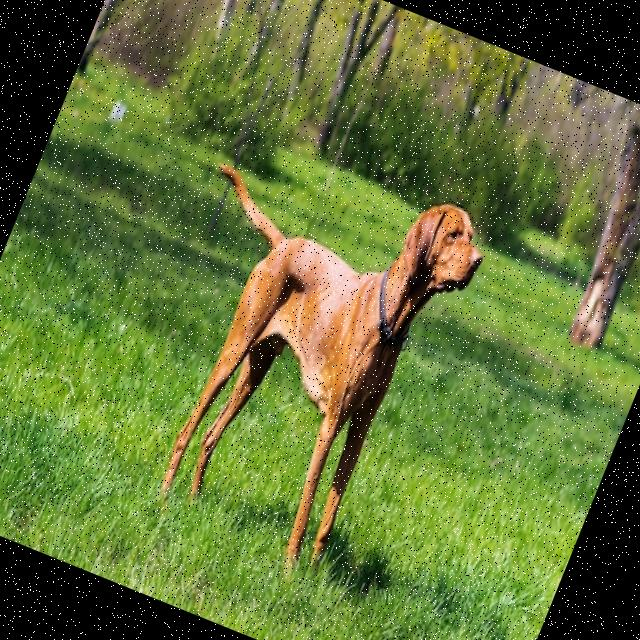Dog: (87, 118, 495, 590)
